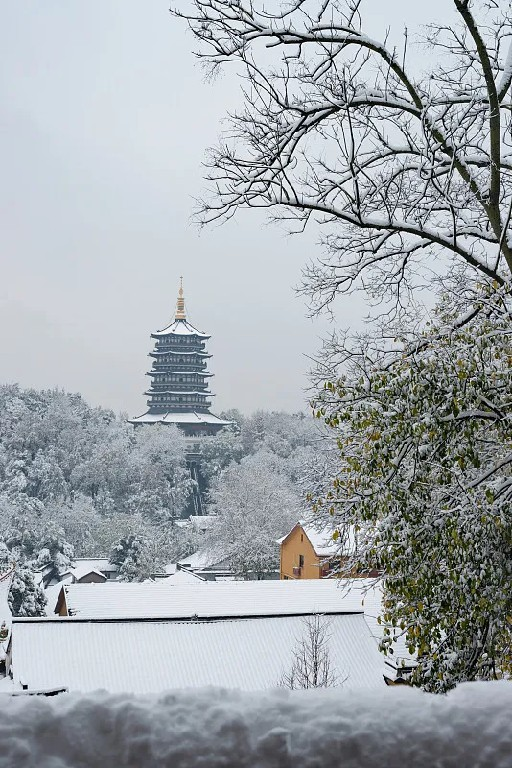Leifeng: (131, 274, 238, 444)
